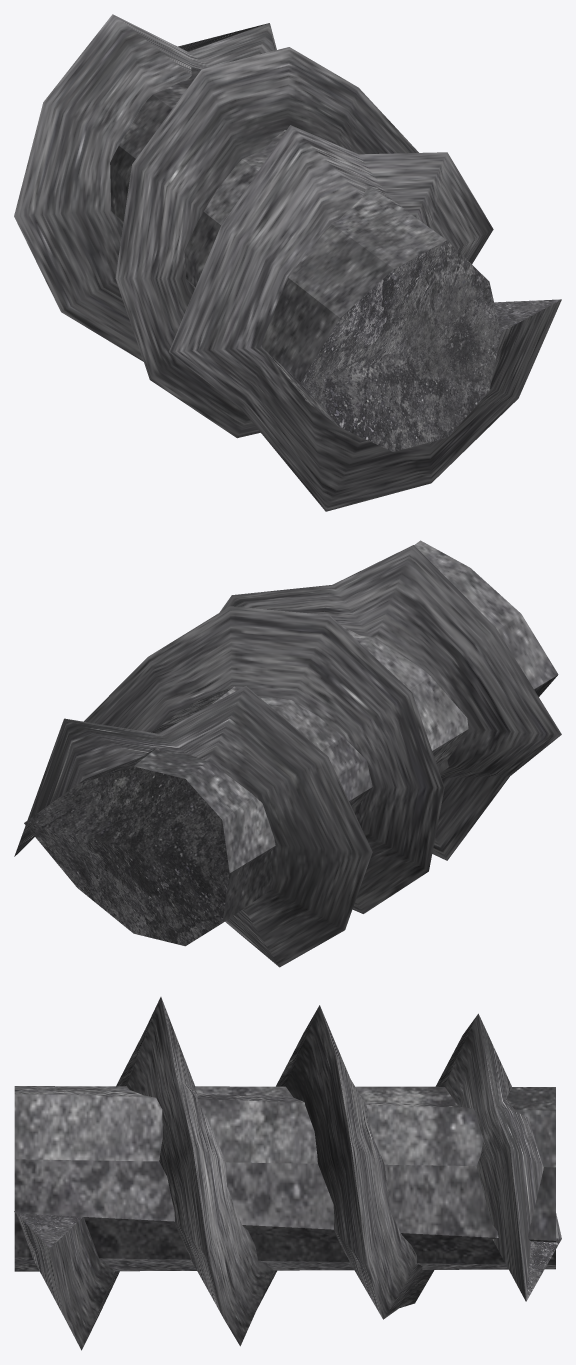
The model's file is Worm_Gear_Broken_2.fbx.
3 views of the same model, one above another, from view 1: azimuth 30°, elevation 25°; view 2: azimuth 150°, elevation 25°; view 3: azimuth 270°, elevation 25° (orthographic). The views are drawn at different scales.
Parts seen in each view (by area): view 1: Worm_Gear_Broken; view 2: Worm_Gear_Broken; view 3: Worm_Gear_Broken.
Part boxes in pixels (bbox=[...]): Worm_Gear_Broken: bbox=[14, 14, 561, 511]; Worm_Gear_Broken: bbox=[14, 540, 561, 967]; Worm_Gear_Broken: bbox=[14, 997, 561, 1350].
Bounding box in the file's own units: 117 × 103 × 159.
